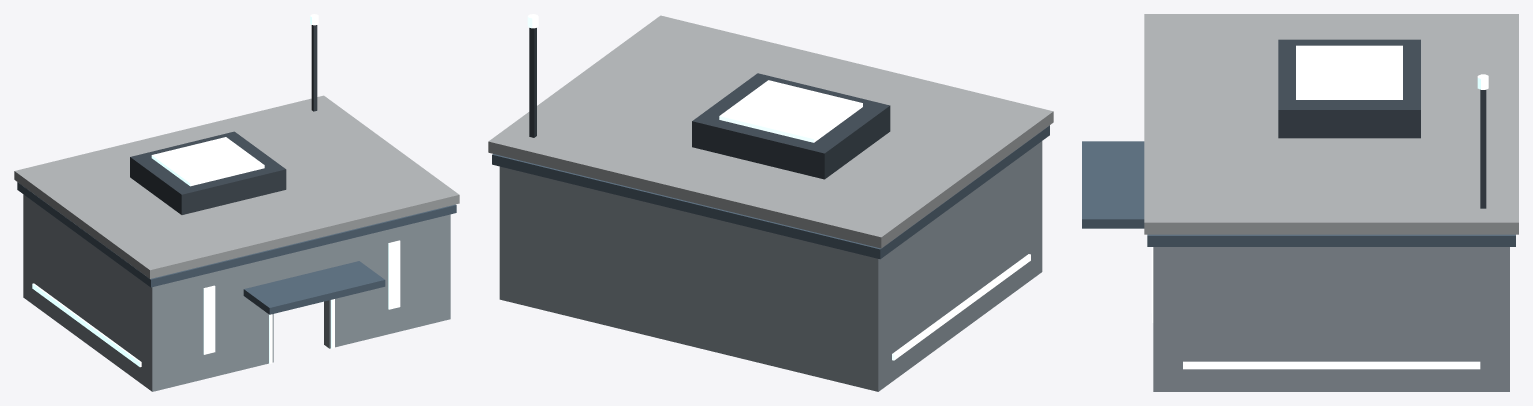
The model's file is shaddai_dist_arctic_b1_v01.glb.
3 views of the same model, side by side, from view 1: azimuth 30°, elevation 25°; view 2: azimuth 150°, elevation 25°; view 3: azimuth 270°, elevation 25° (orthographic). The views are drawn at different scales.
Parts seen in each view (by area): view 1: shaddai_dist_arctic_b1; view 2: shaddai_dist_arctic_b1; view 3: shaddai_dist_arctic_b1.
Boxes of the visible parts, x1,y1,x2,y2 form: shaddai_dist_arctic_b1: (14, 14, 459, 391); shaddai_dist_arctic_b1: (488, 14, 1053, 391); shaddai_dist_arctic_b1: (1082, 14, 1518, 391).
Bounding box in the file's own units: 16.6 × 11.28 × 14.7.
